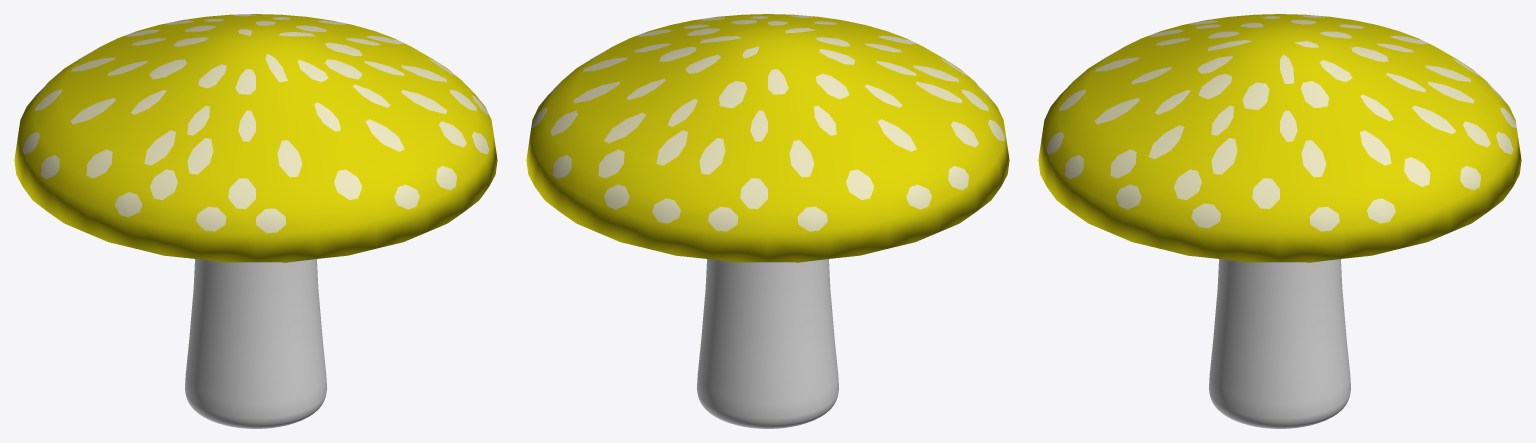
Rendered from shroom.glb.
3 renders of one model, left to right at view 1: azimuth 30°, elevation 25°; view 2: azimuth 150°, elevation 25°; view 3: azimuth 270°, elevation 25°, orthographic.
Visible parts, largest first — view 1: Poly; view 2: Poly; view 3: Poly.
Boxes of the visible parts, bbox=[...] form: Poly: bbox=[14, 14, 497, 428]; Poly: bbox=[526, 14, 1009, 428]; Poly: bbox=[1038, 14, 1521, 428].
Bounding box in the file's own units: 1.43 × 1.19 × 1.43.
